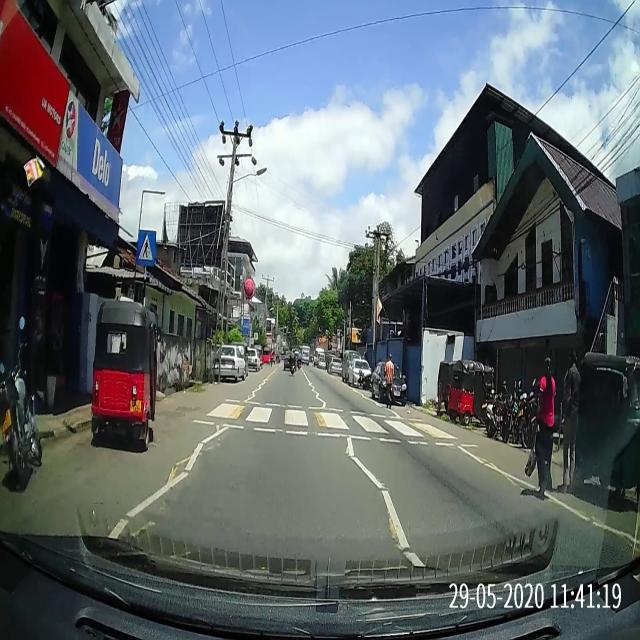Crosswalk: (190, 397, 470, 451)
